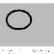no answer: (3, 8, 35, 32)
